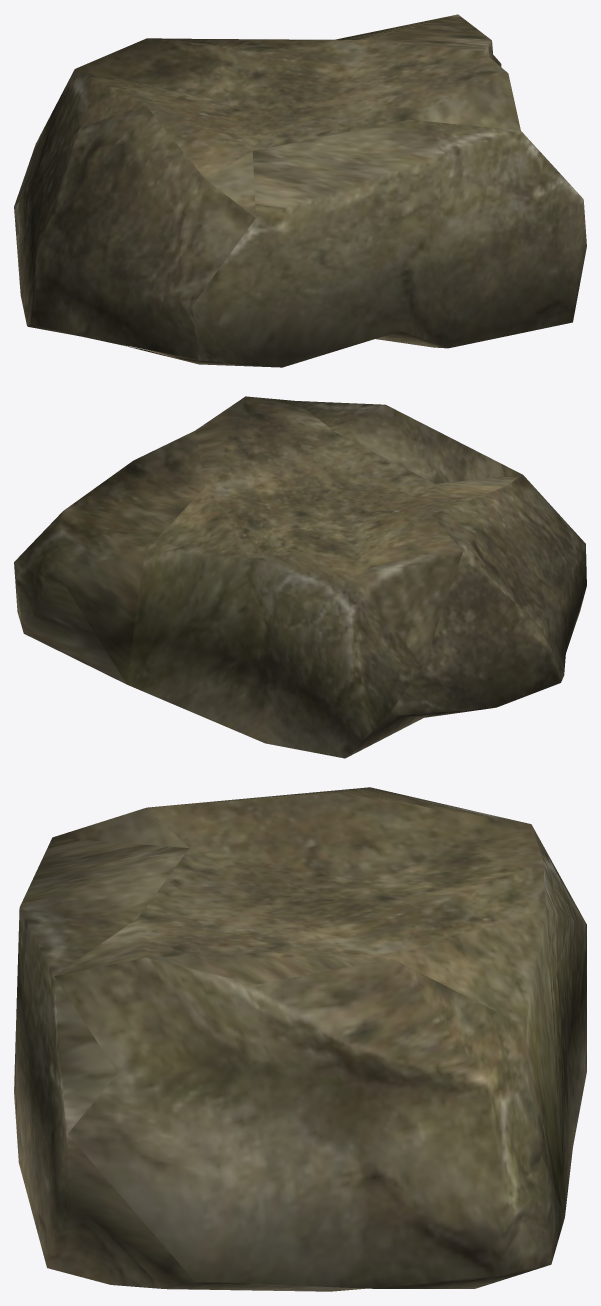
Rendered from rock_02_lod3.glb.
3 views of the same model, one above another, from view 1: azimuth 30°, elevation 25°; view 2: azimuth 150°, elevation 25°; view 3: azimuth 270°, elevation 25° (orthographic). The views are drawn at different scales.
Parts seen in each view (by area): view 1: Rock_02_LOD3; view 2: Rock_02_LOD3; view 3: Rock_02_LOD3.
Part boxes in pixels (box(x1,y1,x2,y2)): Rock_02_LOD3: box(14, 14, 586, 367); Rock_02_LOD3: box(14, 396, 586, 758); Rock_02_LOD3: box(14, 787, 586, 1291).
Bounding box in the file's own units: 2.52 × 1.1 × 1.74.
Materials: 1 (1 with a texture image).
